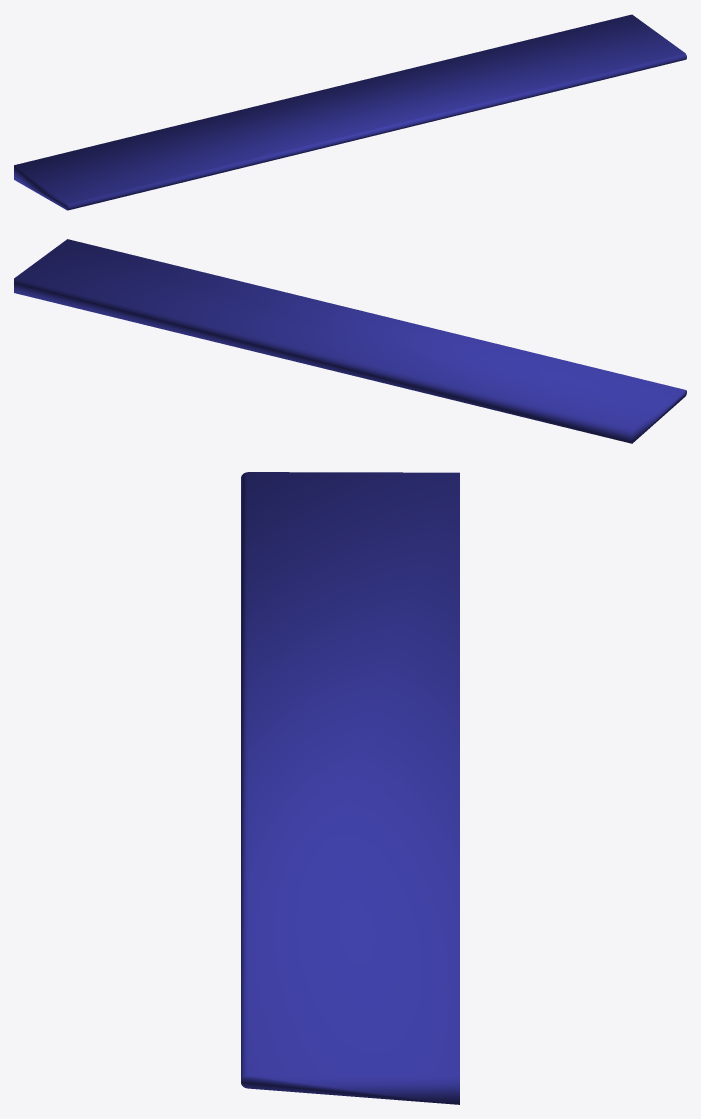
The model's file is kursi.obj.
The picture shows the model from 3 angles, top to bottom: view 1: azimuth 30°, elevation 25°; view 2: azimuth 150°, elevation 25°; view 3: azimuth 270°, elevation 25°; orthographic projection. The views are drawn at different scales.
Visible parts, largest first — view 1: Cube.005; view 2: Cube.005; view 3: Cube.005.
Boxes of the visible parts, x1,y1,x2,y2 form: Cube.005: [14, 14, 686, 210]; Cube.005: [14, 239, 686, 443]; Cube.005: [241, 472, 459, 1104].
Bounding box in the file's own units: 7.42 × 0.1699 × 1.14.
